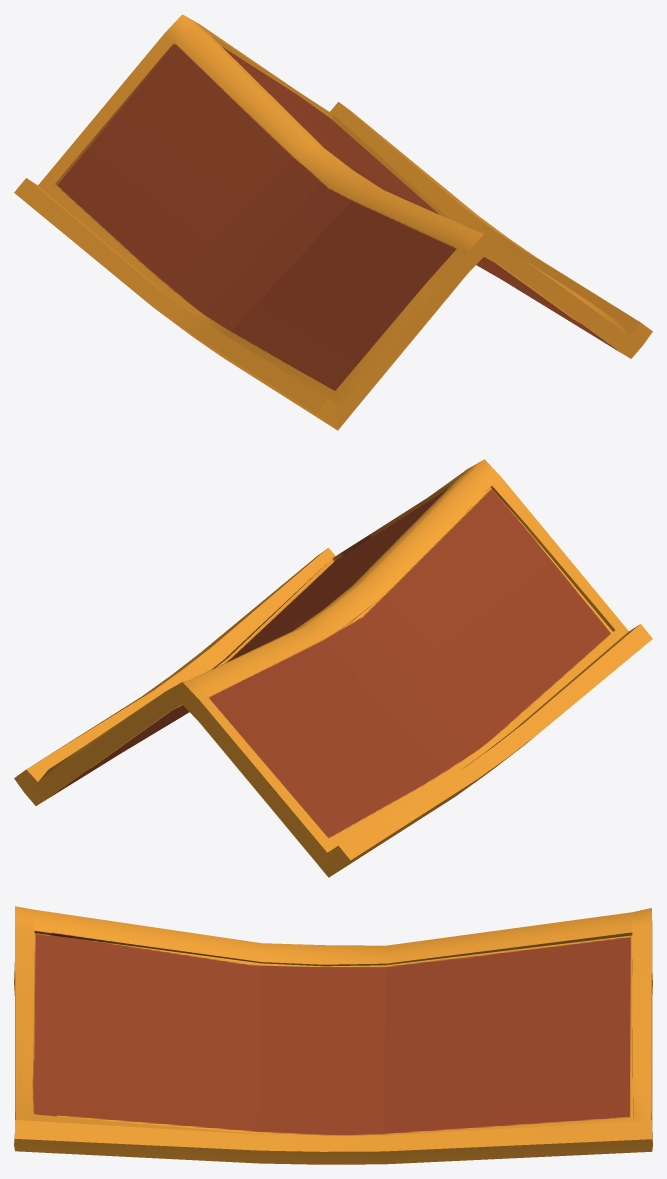
The model's file is roof house 1.fbx.
3 views of the same model, one above another, from view 1: azimuth 30°, elevation 25°; view 2: azimuth 150°, elevation 25°; view 3: azimuth 270°, elevation 25° (orthographic). The views are drawn at different scales.
Visible parts, largest first — view 1: toit_1:toiture_1_LD; view 2: toit_1:toiture_1_LD; view 3: toit_1:toiture_1_LD.
Boxes of the visible parts, <box> form: toit_1:toiture_1_LD: <box>14,14,652,430</box>; toit_1:toiture_1_LD: <box>14,459,652,877</box>; toit_1:toiture_1_LD: <box>14,906,652,1164</box>.
Size of the model in its own units: 4597 by 2272 by 7170.
